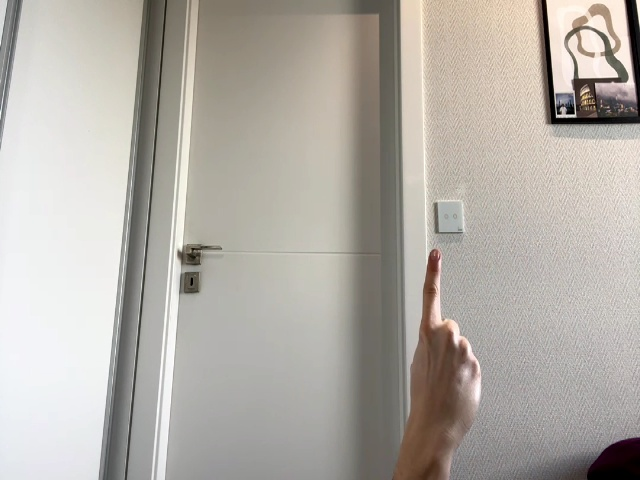D: (411, 250, 482, 447)
